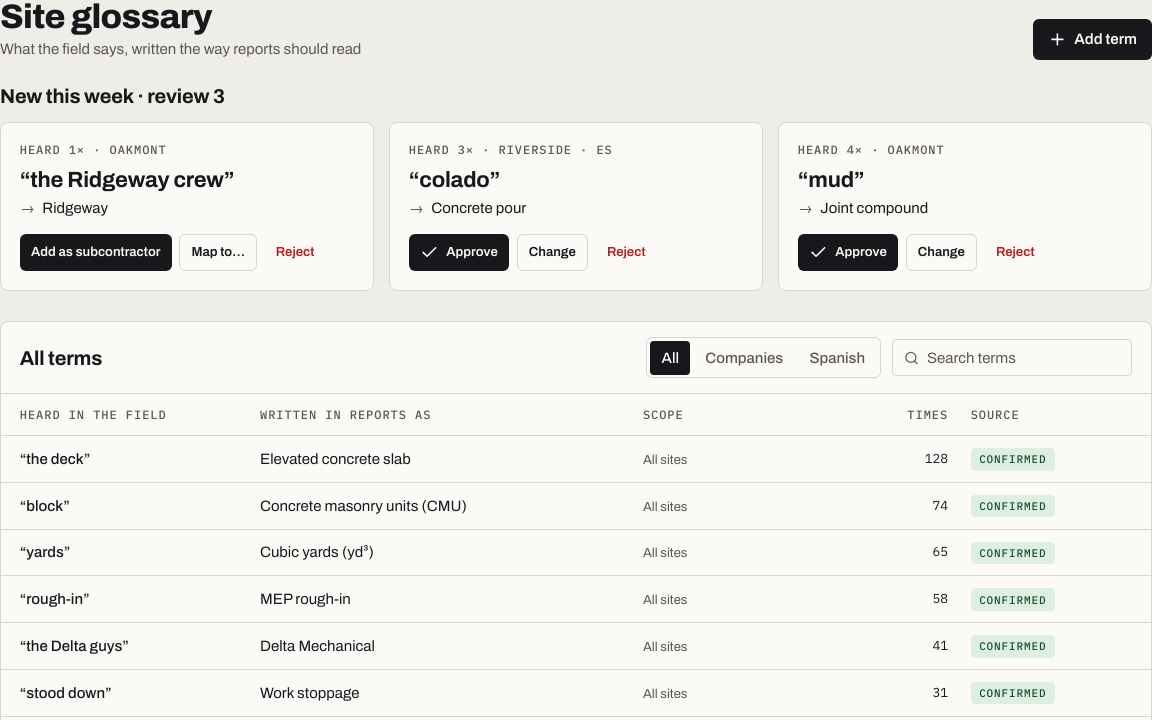
Scenario: GlossaryPage (demo data) › shows the review queue and the all-terms table with tabs and search
Check: the heading "New this week · review 3" is shown, box [0, 85, 225, 107]
Check: the number of elements with test id "review-card" is 3, box [0, 122, 374, 291]; [389, 122, 763, 291]; [778, 122, 1151, 291]
Click the tab "Spanish" at (837, 358), box [798, 341, 876, 375]
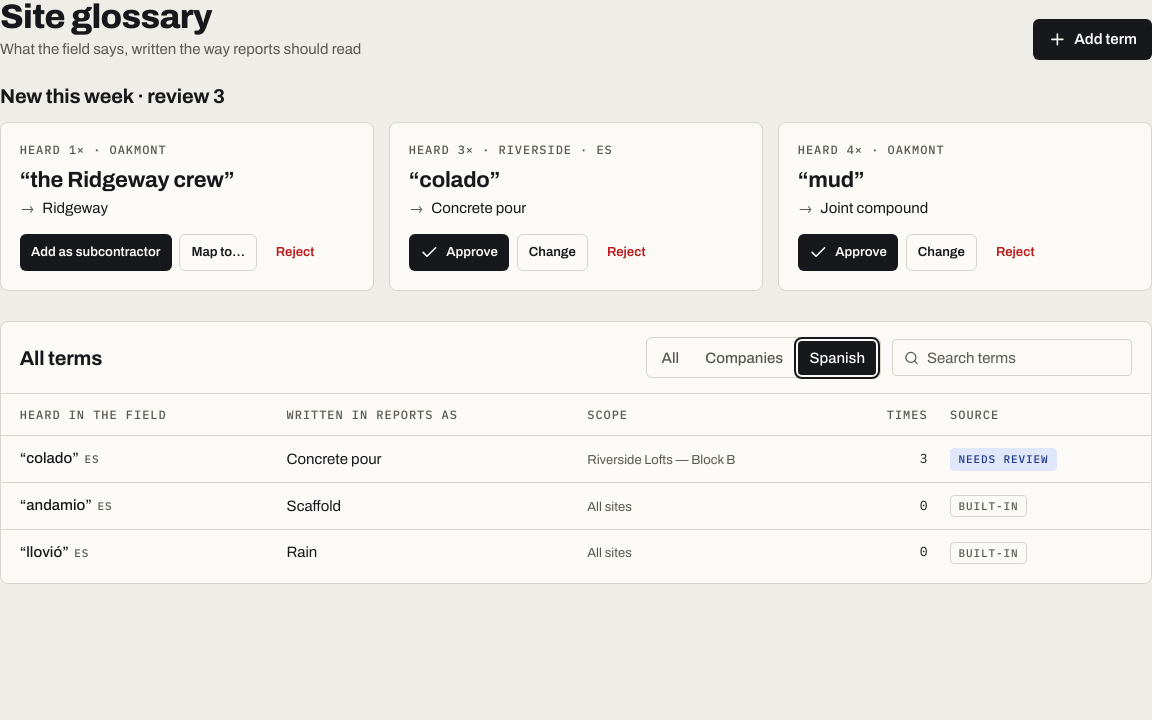
Check: the text "“llovió”" is shown, box [20, 544, 89, 560]
Check: the text "“the deck”" is gone
Click the tab "All" at (670, 358), box [650, 341, 690, 375]
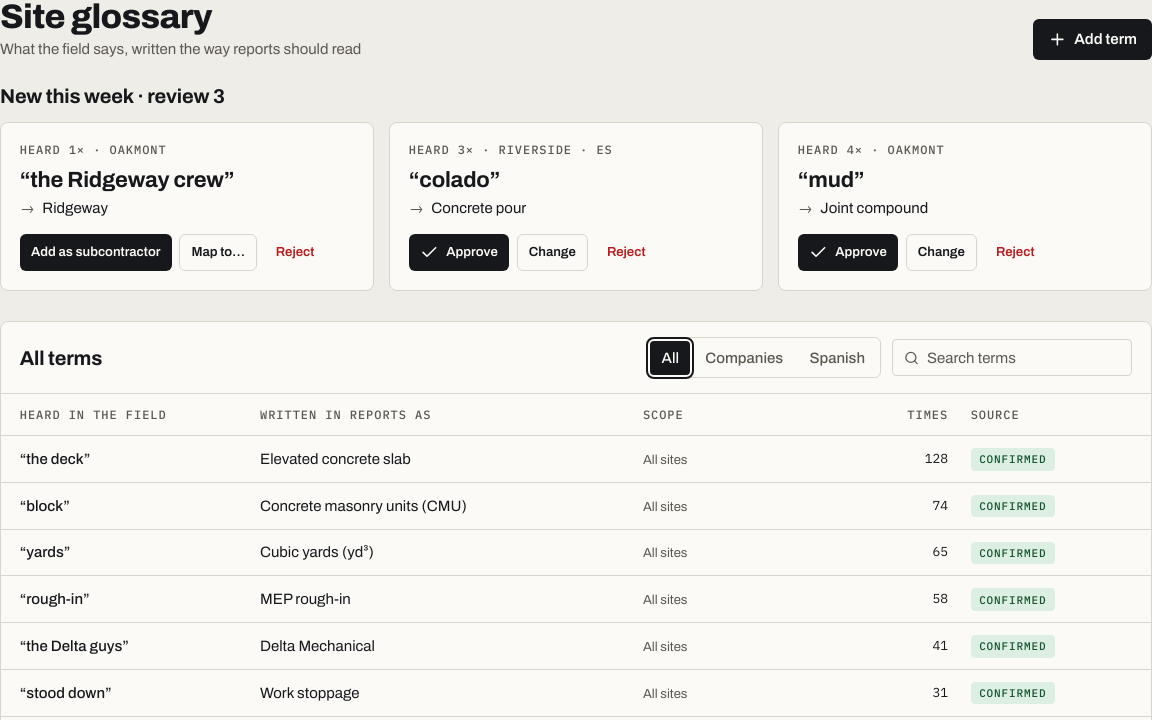
Type "punch" into the search field labelled "Search terms" at (1012, 358), box [892, 339, 1132, 376]
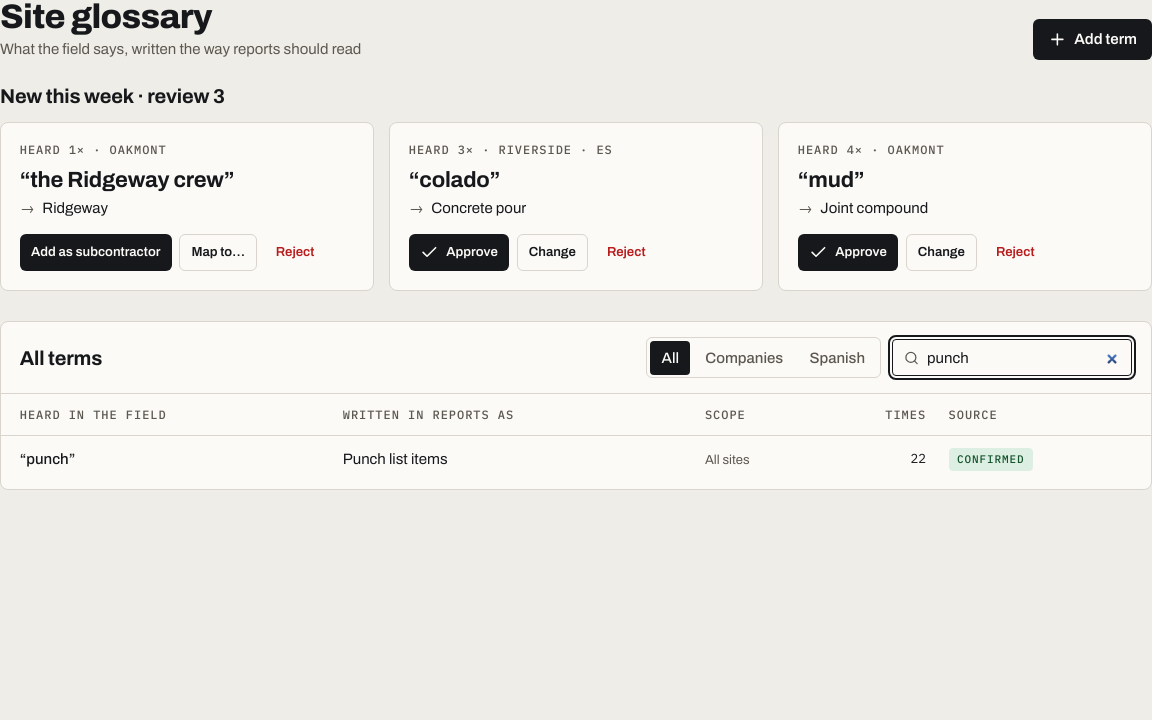
Check: the text "“punch”" is shown, box [20, 451, 75, 467]
Check: the number of rows is 2, box [1, 394, 1151, 436]; [1, 436, 1151, 482]
